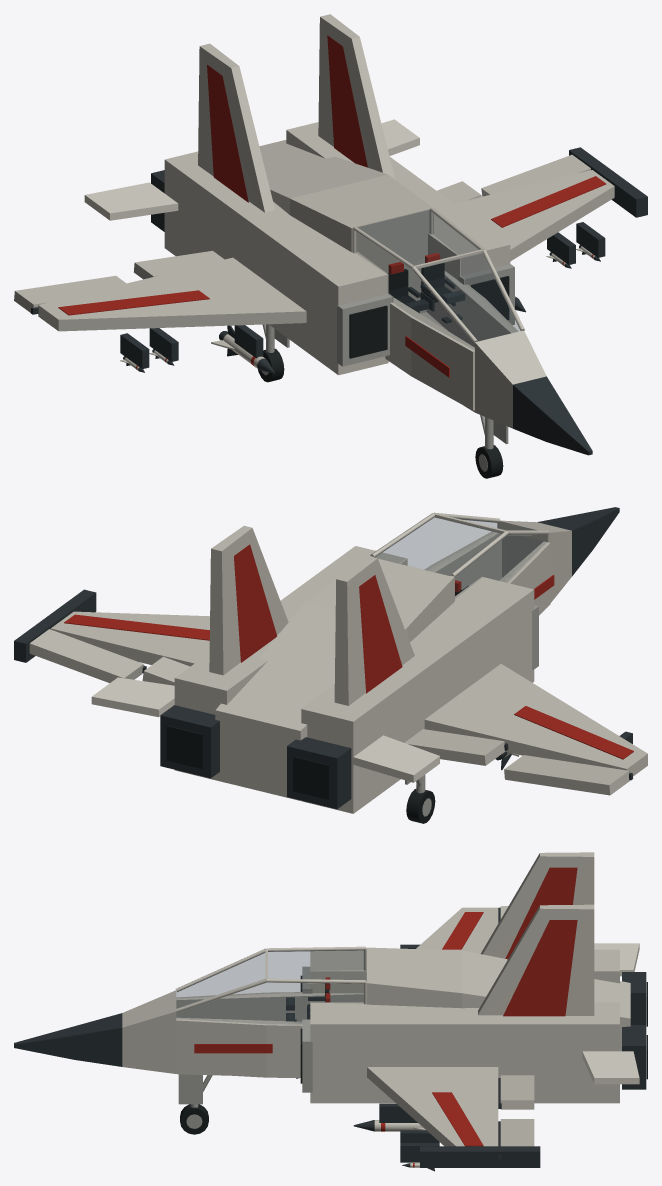
The picture shows the model from 3 angles, top to bottom: view 1: azimuth 30°, elevation 25°; view 2: azimuth 150°, elevation 25°; view 3: azimuth 270°, elevation 25°; orthographic projection. The views are drawn at different scales.
Parts seen in each view (by area): view 1: jet-c-painted, jet-c-glazing, elevator-left-fleet-armor, aileron-left-painted, aileron-right-painted, breakaway-1-painted, crew-chair-copilot-painted, flap-left-painted, crew-chair-pilot-painted, elevator-right-fleet-armor, store-left-large-painted, gear-wheel-nose-0-0-painted; view 2: jet-c-painted, jet-c-glazing, aileron-left-painted, aileron-right-painted, elevator-left-fleet-armor, elevator-right-fleet-armor, flap-left-painted, breakaway-1-painted, flap-right-painted, gear-wheel-left-0-0-painted; view 3: jet-c-painted, jet-c-glazing, breakaway-1-painted, elevator-right-fleet-armor, flap-right-painted, aileron-right-painted, landing-gear-nose-painted, gear-wheel-nose-0-0-painted, elevator-left-fleet-armor, store-right-large-painted.
Boxes of the visible parts, bbox=[...] form: jet-c-painted: bbox=[38, 14, 614, 455]; jet-c-glazing: bbox=[356, 210, 520, 349]; elevator-left-fleet-armor: bbox=[84, 182, 178, 220]; aileron-left-painted: bbox=[14, 275, 126, 314]; aileron-right-painted: bbox=[481, 154, 590, 196]; breakaway-1-painted: bbox=[569, 147, 647, 217]; crew-chair-copilot-painted: bbox=[420, 253, 465, 323]; flap-left-painted: bbox=[134, 250, 224, 279]; crew-chair-pilot-painted: bbox=[387, 262, 428, 312]; elevator-right-fleet-armor: bbox=[381, 119, 419, 155]; store-left-large-painted: bbox=[211, 325, 274, 373]; gear-wheel-nose-0-0-painted: bbox=[475, 445, 503, 478]; jet-c-painted: bbox=[50, 507, 647, 813]; jet-c-glazing: bbox=[375, 517, 546, 597]; aileron-left-painted: bbox=[504, 755, 633, 795]; aileron-right-painted: bbox=[29, 629, 146, 683]; elevator-left-fleet-armor: bbox=[353, 735, 439, 782]; elevator-right-fleet-armor: bbox=[91, 677, 174, 717]; flap-left-painted: bbox=[404, 729, 508, 765]; breakaway-1-painted: bbox=[14, 589, 96, 662]; flap-right-painted: bbox=[142, 656, 189, 685]; gear-wheel-left-0-0-painted: bbox=[406, 789, 435, 823]; jet-c-painted: bbox=[14, 852, 647, 1162]; jet-c-glazing: bbox=[176, 950, 365, 1024]; breakaway-1-painted: bbox=[420, 1146, 540, 1167]; elevator-right-fleet-armor: bbox=[582, 1051, 639, 1084]; flap-right-painted: bbox=[498, 1075, 534, 1109]; aileron-right-painted: bbox=[498, 1119, 534, 1159]; landing-gear-nose-painted: bbox=[178, 1074, 212, 1107]; gear-wheel-nose-0-0-painted: bbox=[180, 1104, 208, 1134]; elevator-left-fleet-armor: bbox=[594, 943, 639, 976]; store-right-large-painted: bbox=[353, 1120, 425, 1131].
Size of the model in its own units: 82.21 by 38.67 by 88.42.
